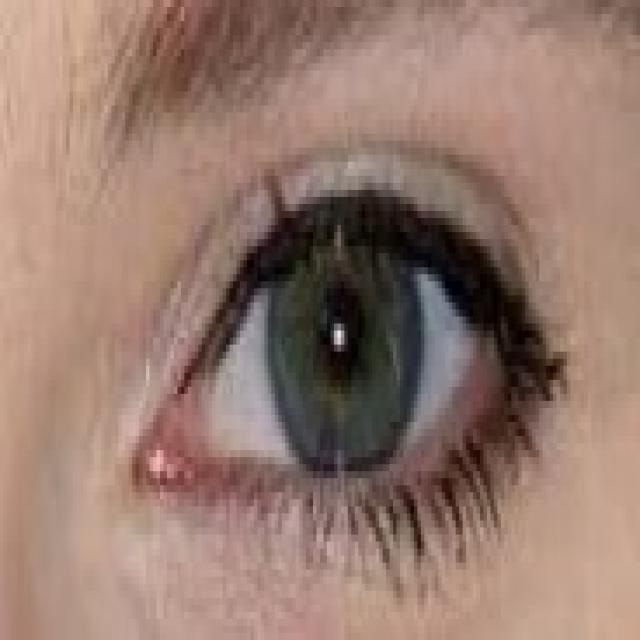Normal: (73, 121, 574, 614)
